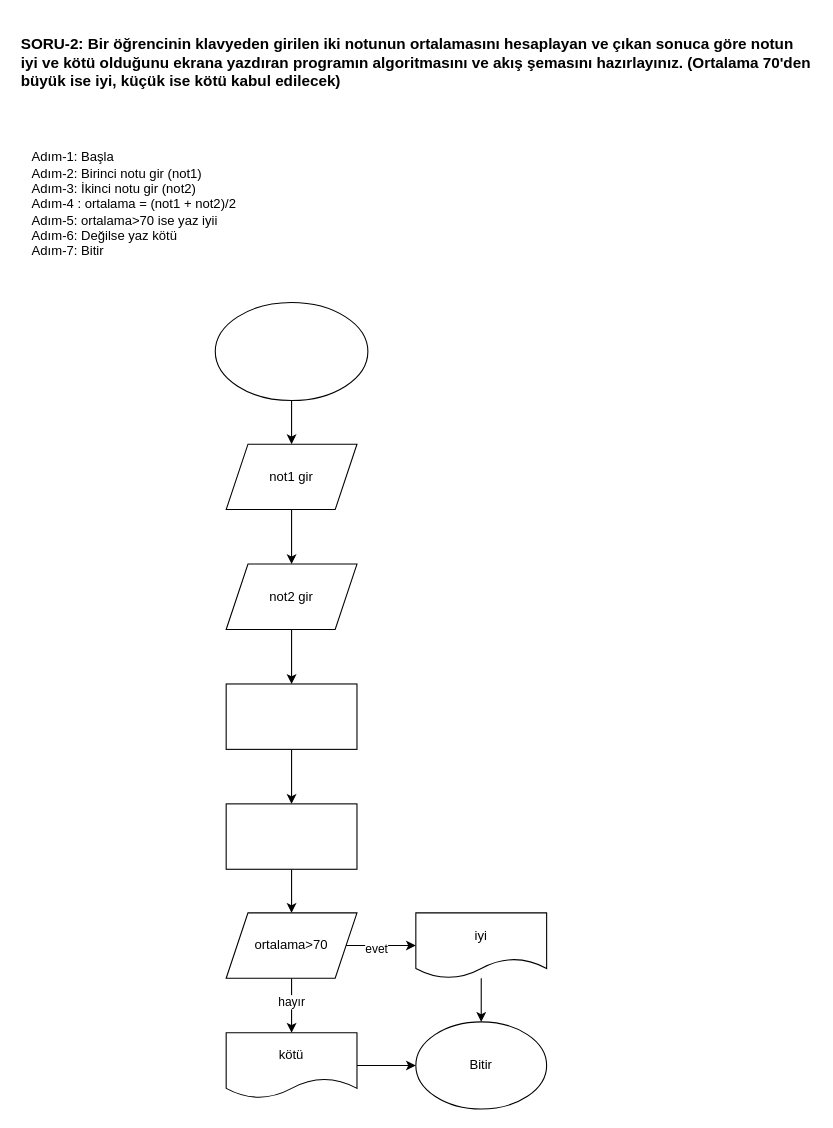
Some shapes in this 833 by 1128 pixel diagram are drawn without their labels. Here are the shapes that lost their labels. From the top down, the centre of each, then its label:
the point at 291,351: Başla
the point at 291,716: not1+not2=toplam
the point at 291,836: toplam/2=ortalama
